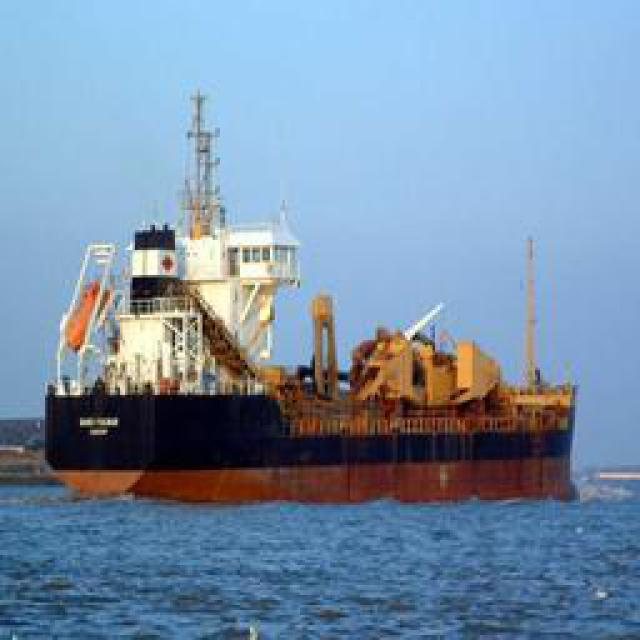Ship: (50, 209, 578, 489)
